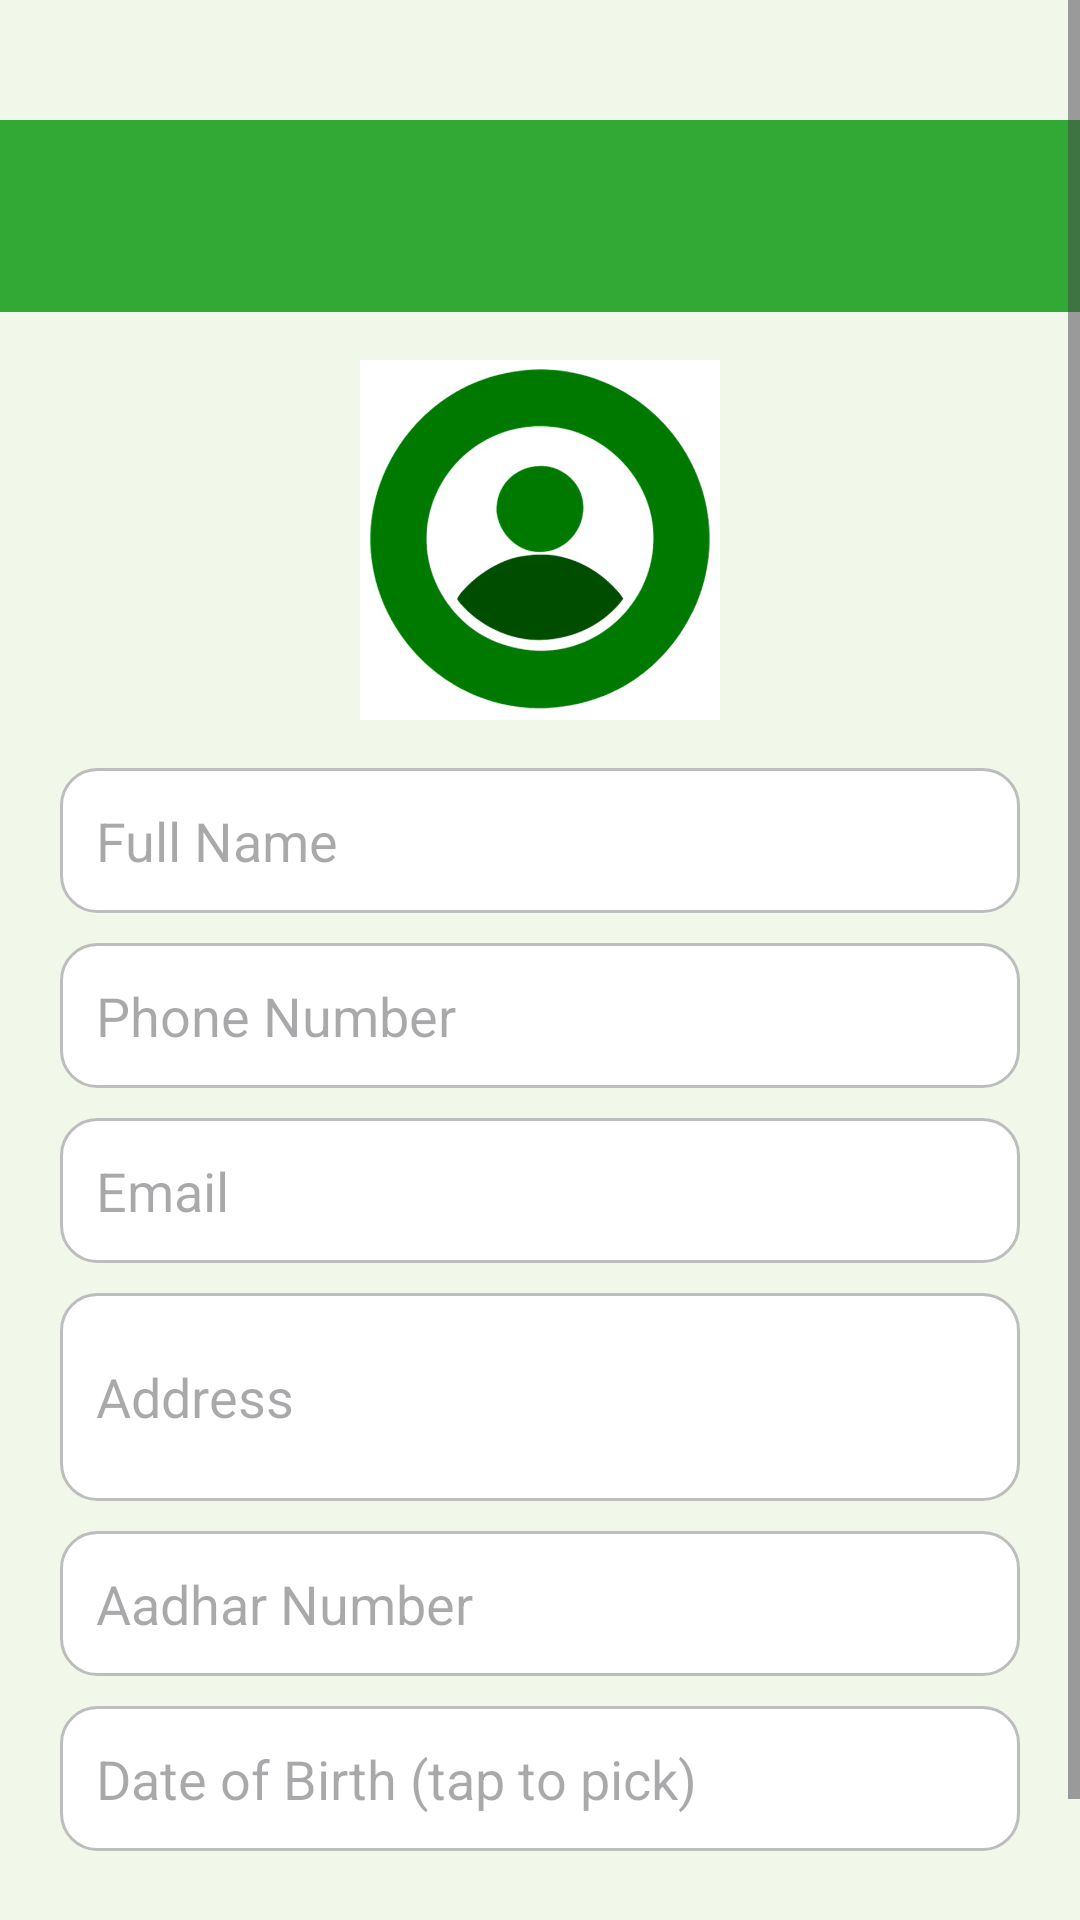

Named icons in this screenshot (1080×1920) and their bounding boxes, (left=x1, top=y1, right=x2, bottom=y2):
userprofile: (left=370, top=369, right=710, bottom=709)
